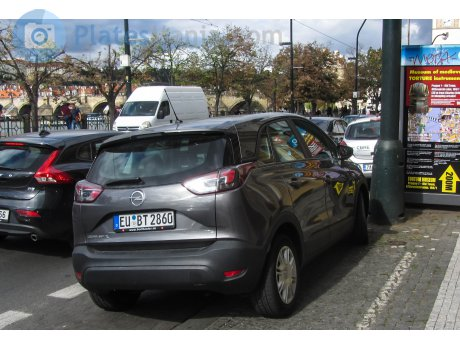License Plates: (119, 211, 172, 229)
